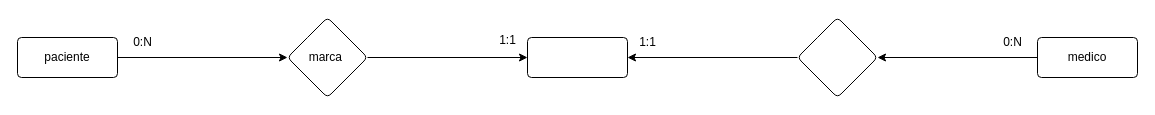
Image size: 1155x115. Some labels were removed from this diagram. The shapes that lost their labels are listed below. From the top down, each one's centre as x and y in pixels, then its label:
At point 577,57: "Consulta".
At point 837,57: "realiza".
